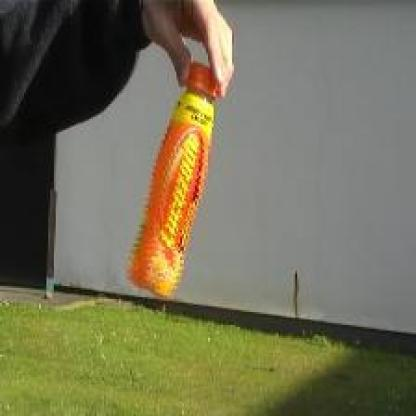other: (126, 56, 218, 298)
